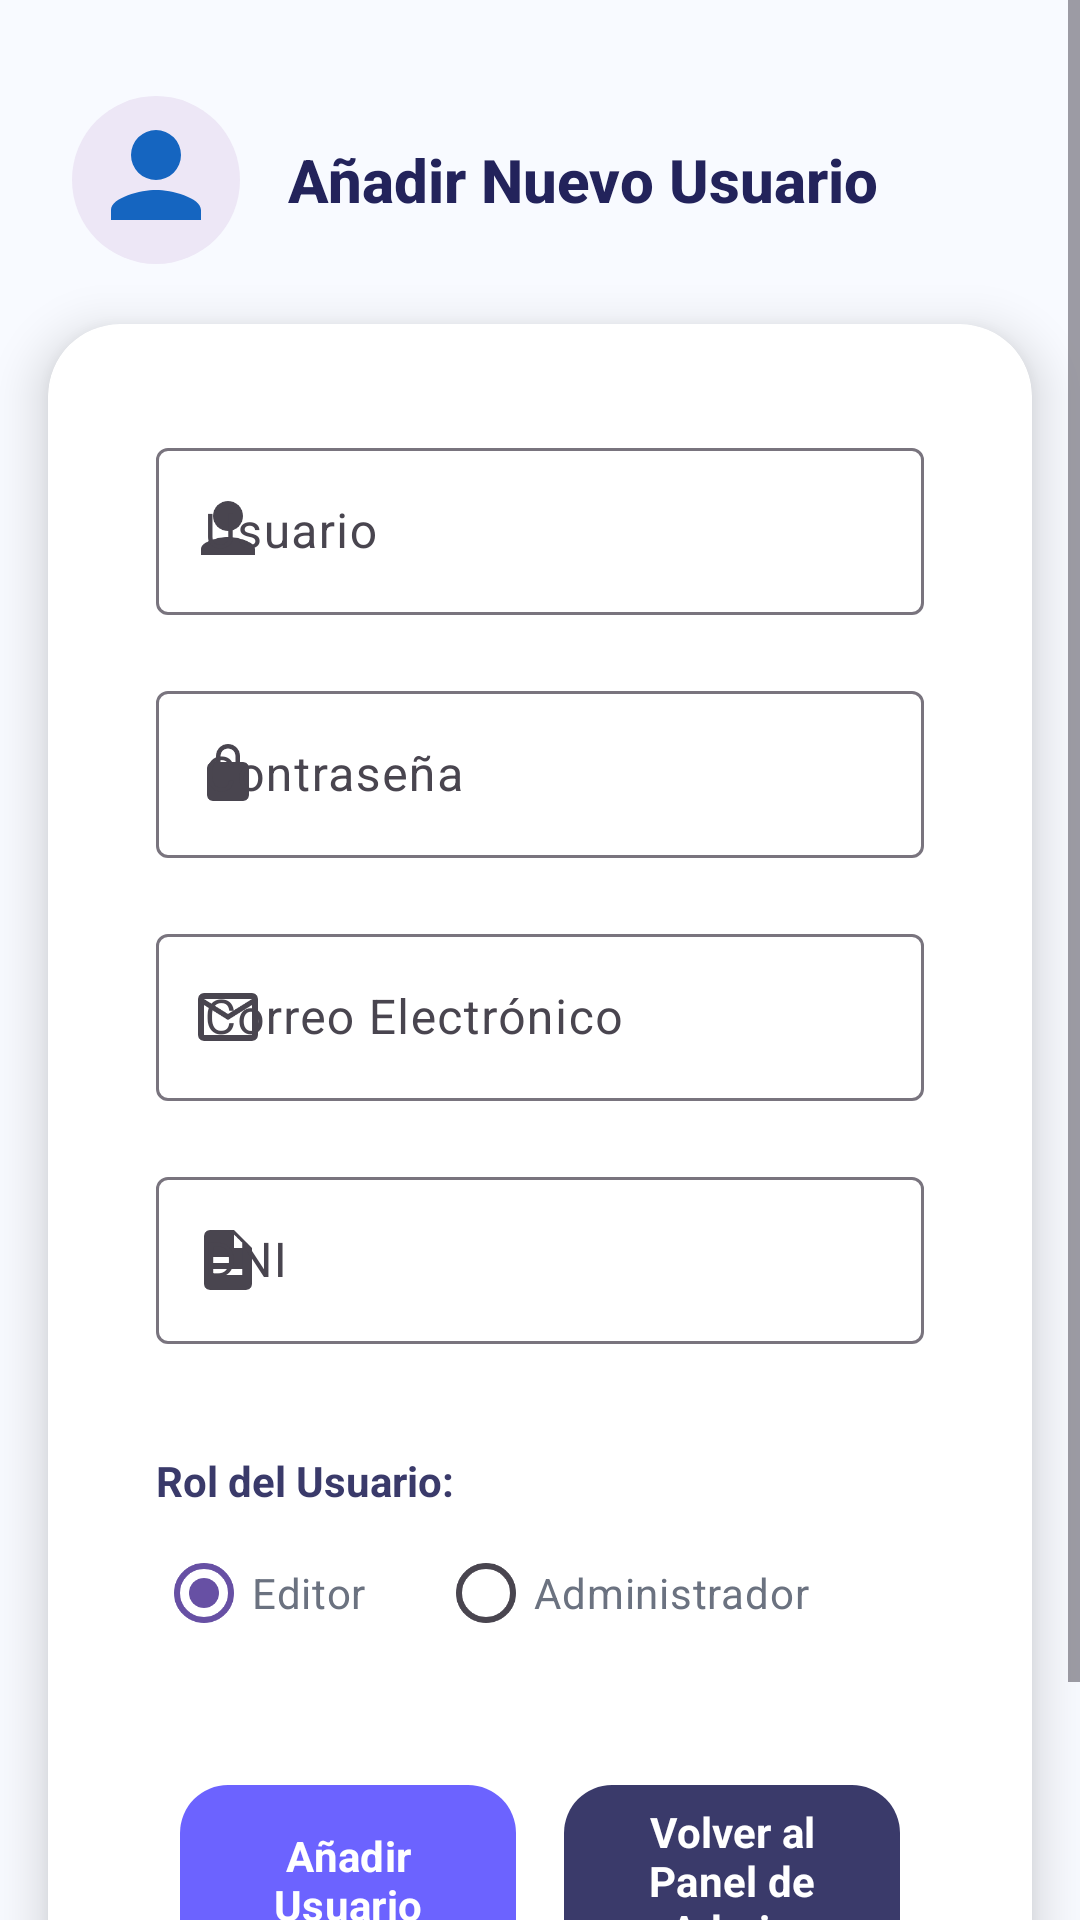

Screen size 1080×1920. Icon name, then its center in pixels as point (x, y):
Avatar: point (156, 175)
